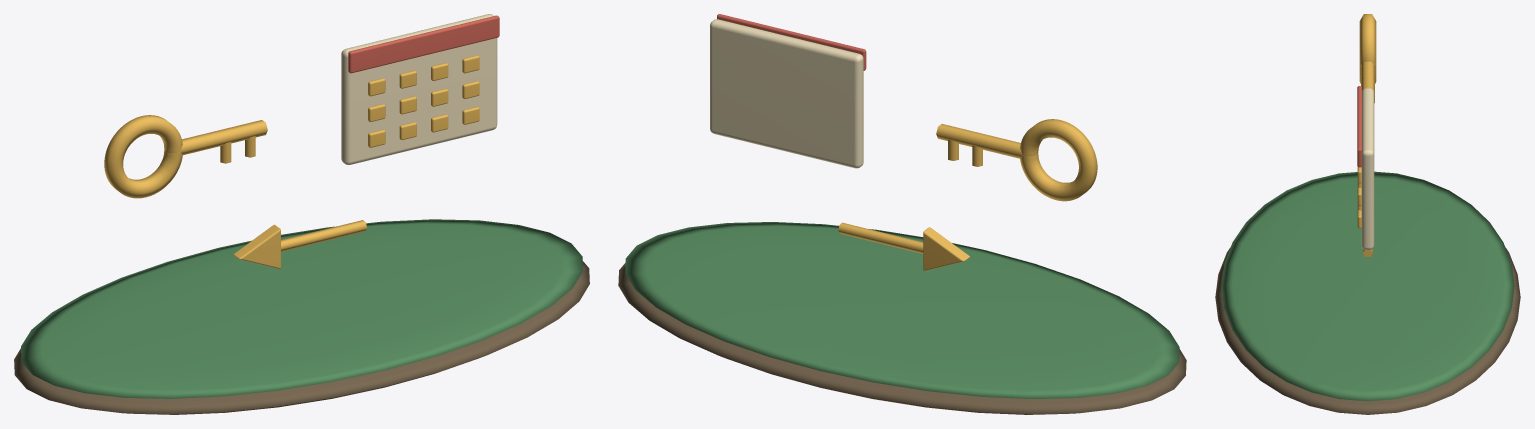
Rendered from complete-first-before-front-page.glb.
The picture shows the model from 3 angles, left to right: view 1: azimuth 30°, elevation 25°; view 2: azimuth 150°, elevation 25°; view 3: azimuth 270°, elevation 25°; orthographic projection. The views are drawn at different scales.
Visible parts, largest first — view 1: complete-first-before-front-page_surface_01, complete-first-before-front-page_surface_03, complete-first-before-front-page_surface_02, complete-first-before-front-page_surface_00, complete-first-before-front-page_surface_04; view 2: complete-first-before-front-page_surface_01, complete-first-before-front-page_surface_03, complete-first-before-front-page_surface_00, complete-first-before-front-page_surface_02, complete-first-before-front-page_surface_04; view 3: complete-first-before-front-page_surface_01, complete-first-before-front-page_surface_00, complete-first-before-front-page_surface_03, complete-first-before-front-page_surface_02, complete-first-before-front-page_surface_04.
Part boxes in pixels (x1,y1,x2,y2): complete-first-before-front-page_surface_01: (21, 219, 582, 398); complete-first-before-front-page_surface_03: (341, 14, 497, 164); complete-first-before-front-page_surface_02: (104, 55, 479, 268); complete-first-before-front-page_surface_00: (14, 261, 589, 414); complete-first-before-front-page_surface_04: (348, 15, 499, 73); complete-first-before-front-page_surface_01: (625, 222, 1179, 398); complete-first-before-front-page_surface_03: (710, 19, 863, 168); complete-first-before-front-page_surface_00: (618, 263, 1186, 414); complete-first-before-front-page_surface_02: (838, 119, 1097, 270); complete-first-before-front-page_surface_04: (717, 14, 866, 70); complete-first-before-front-page_surface_01: (1221, 171, 1514, 401); complete-first-before-front-page_surface_00: (1215, 247, 1520, 414); complete-first-before-front-page_surface_03: (1361, 88, 1374, 250); complete-first-before-front-page_surface_02: (1357, 14, 1376, 256); complete-first-before-front-page_surface_04: (1357, 86, 1361, 167).
Bounding box in the file's own units: 4.56 × 2.21 × 2.5.
